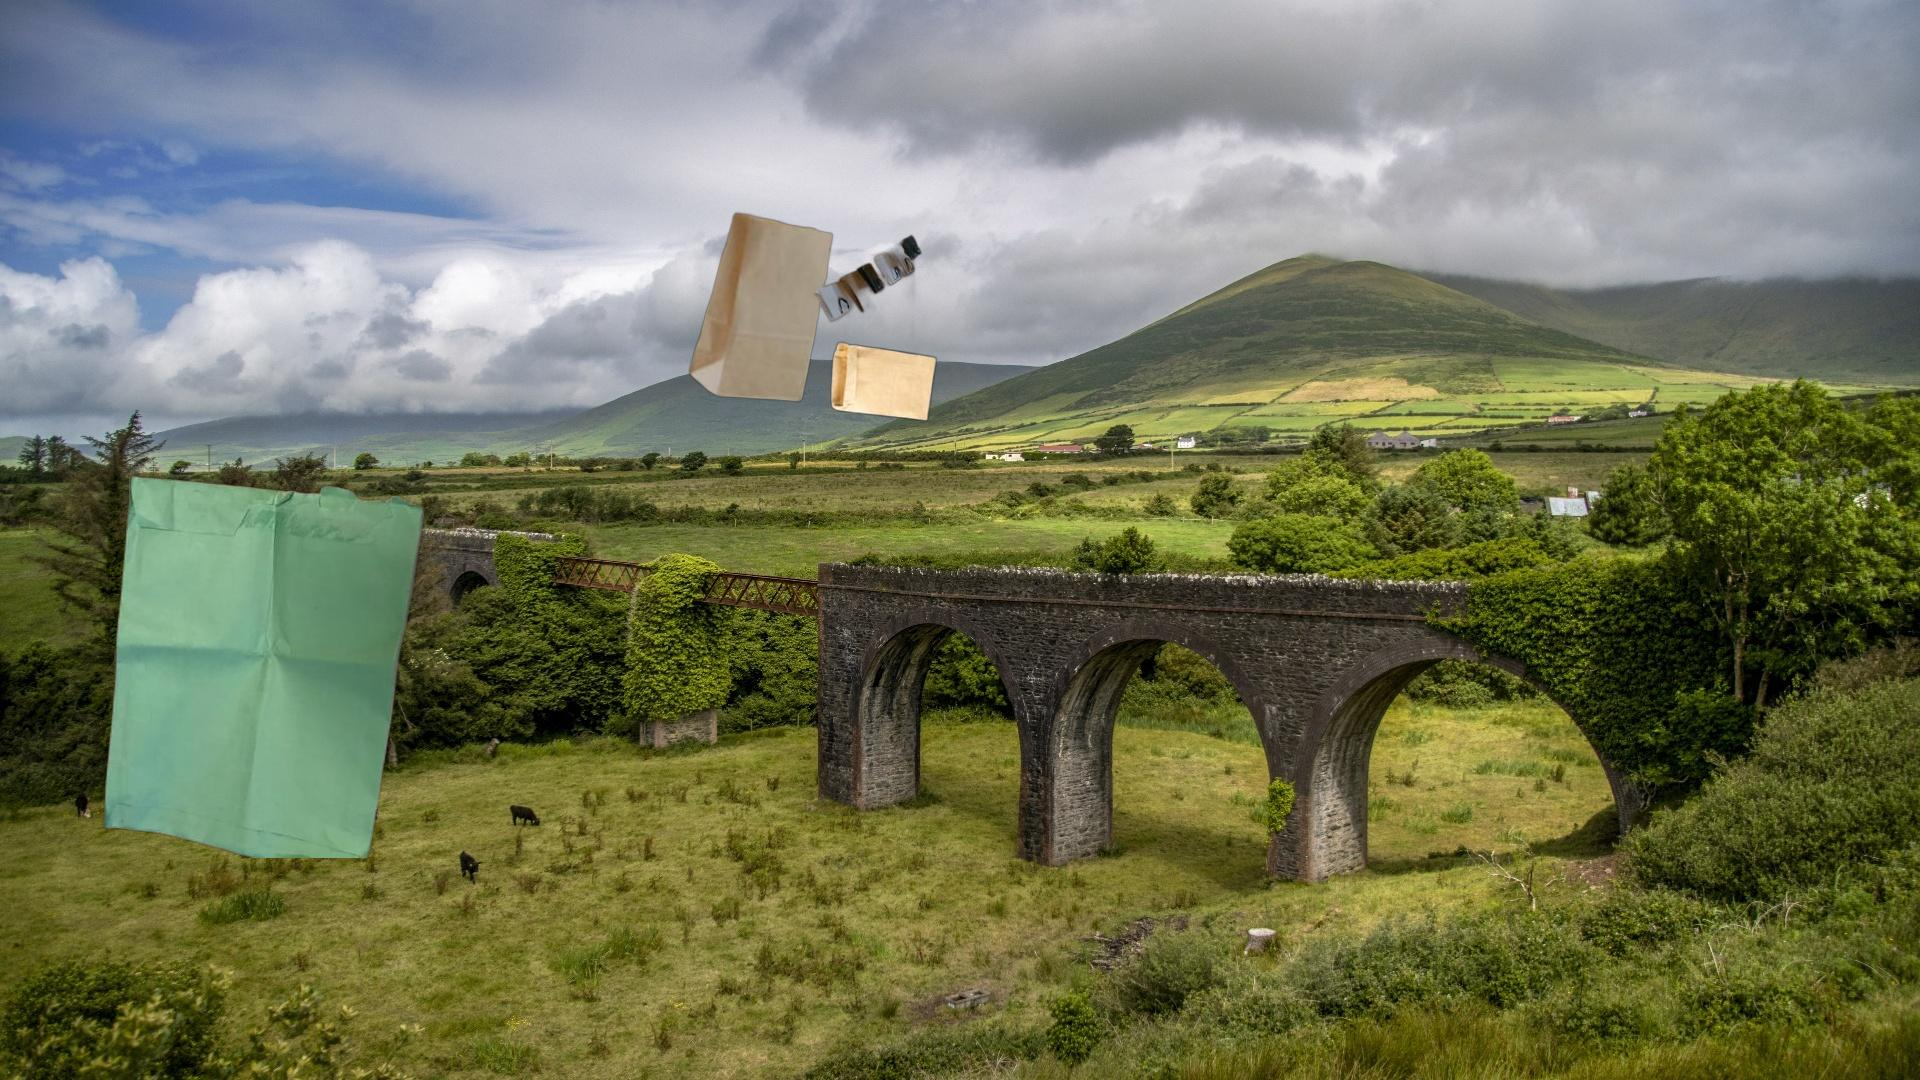paper: (100, 473, 430, 858)
paper-bag: (686, 210, 939, 425)
